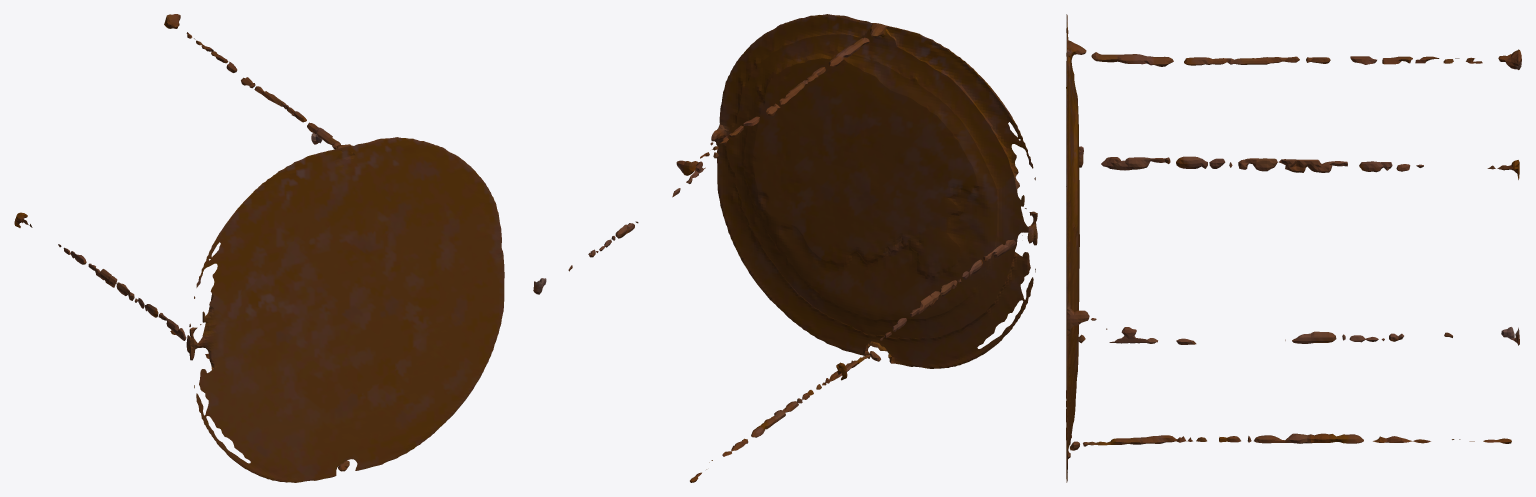
The picture shows the model from 3 angles, left to right: view 1: azimuth 30°, elevation 25°; view 2: azimuth 150°, elevation 25°; view 3: azimuth 270°, elevation 25°; orthographic projection. The views are drawn at different scales.
Parts seen in each view (by area): view 1: mesh.ply; view 2: mesh.ply; view 3: mesh.ply.
Boxes of the visible parts, x1,y1,x2,y2 form: mesh.ply: (14,14,504,482); mesh.ply: (533,14,1037,482); mesh.ply: (1066,14,1521,482).
Size of the model in its own units: 0.9927 by 0.9934 by 1.01.
